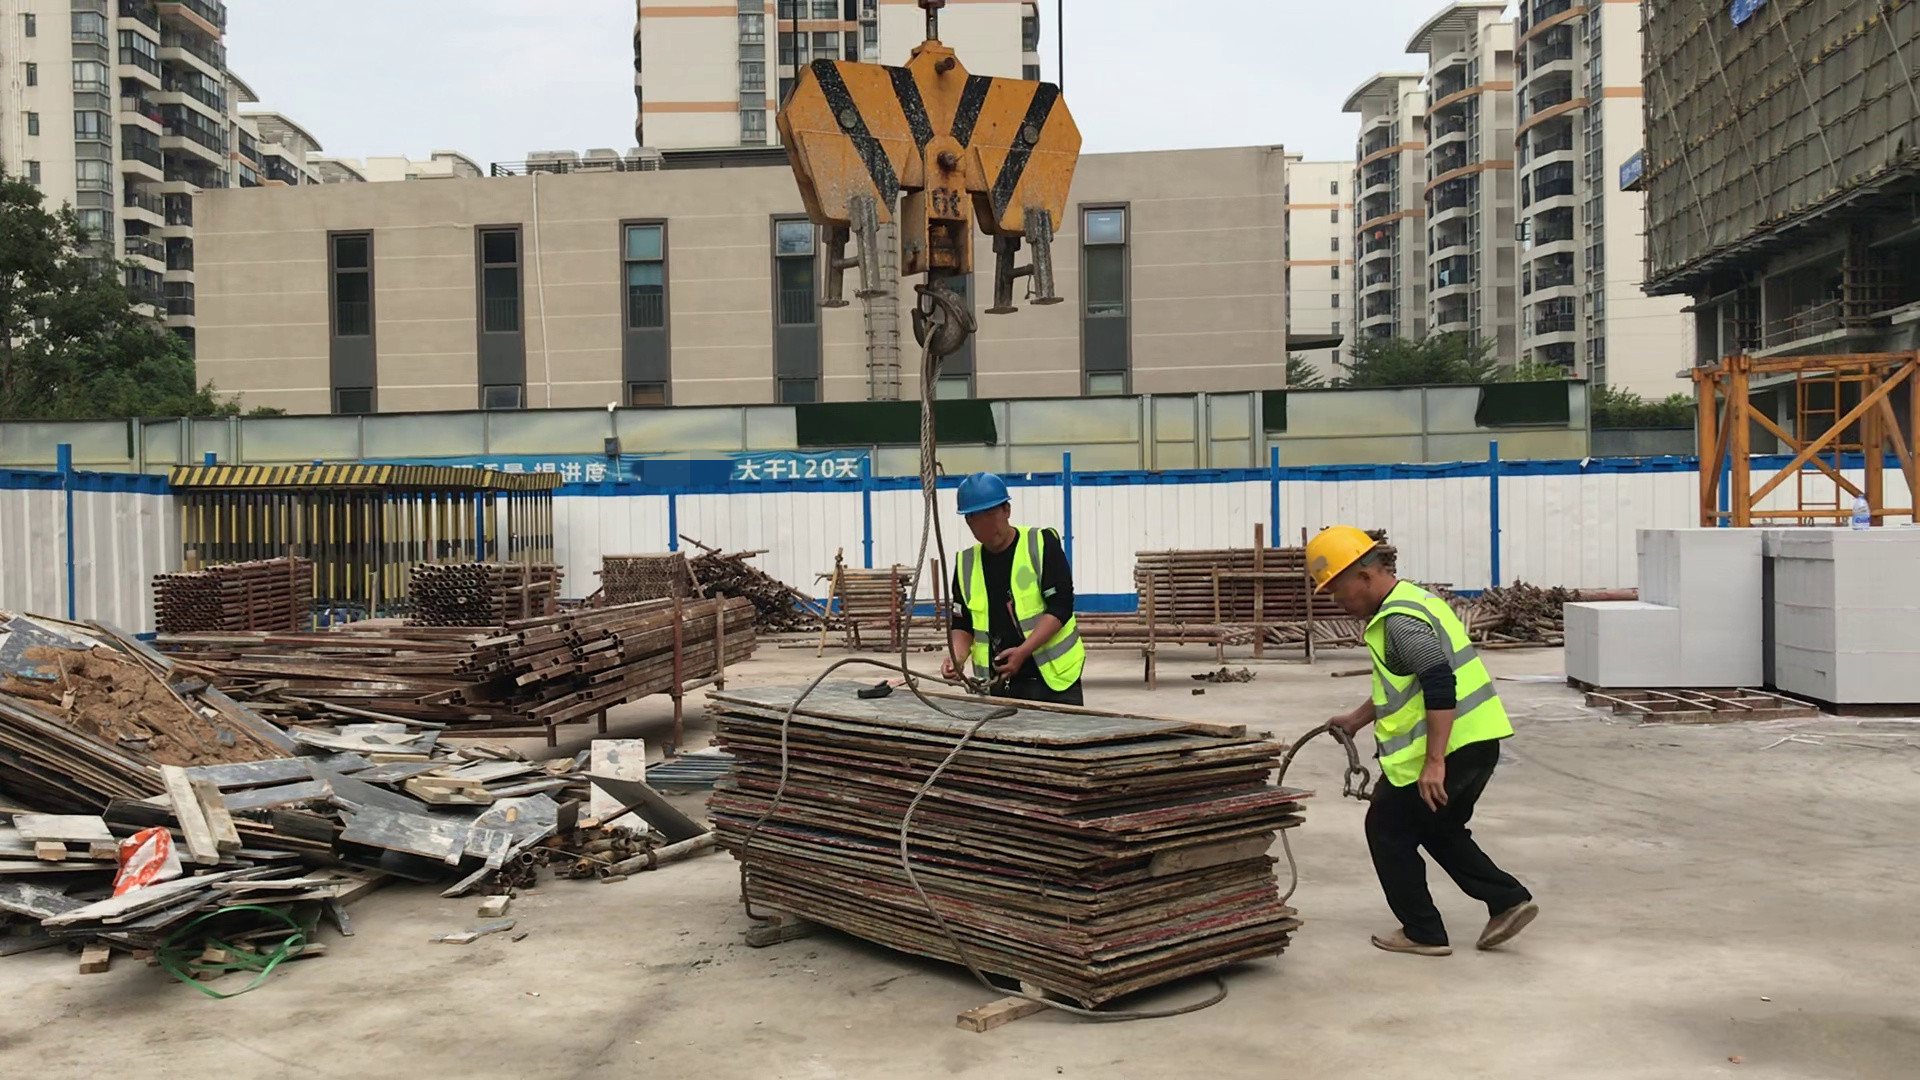board: (696, 672, 1321, 1005)
brick: (1561, 527, 1920, 712)
helmet: (1304, 526, 1378, 588), (956, 471, 1010, 518)
hook: (770, 40, 1078, 356)
person: (1301, 527, 1537, 954), (945, 468, 1092, 704)
scaffold: (1147, 550, 1303, 633), (154, 557, 315, 631), (409, 561, 559, 620), (836, 568, 906, 635), (603, 557, 685, 597)
slogan: (465, 457, 865, 479), (1732, 1, 1757, 27)
vest: (1364, 581, 1517, 791), (959, 526, 1085, 690)
